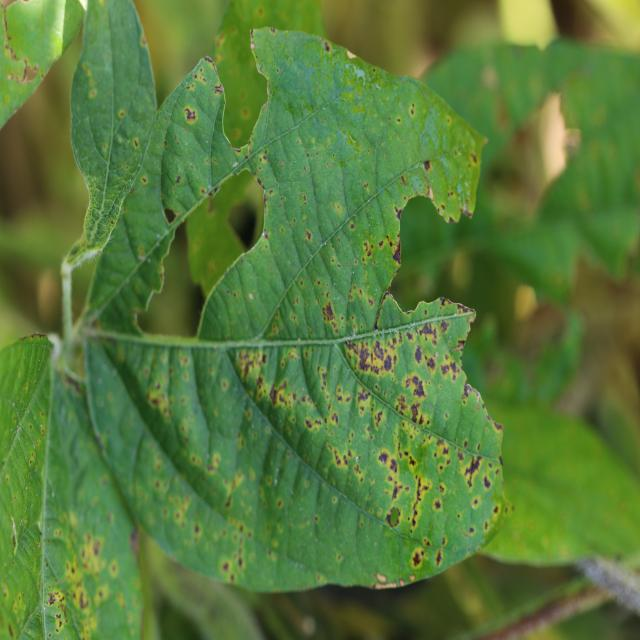Bacterial_Blight: (329, 381, 383, 440), (1, 7, 41, 84), (344, 327, 402, 380), (268, 366, 312, 426), (404, 318, 445, 376), (77, 529, 109, 579), (330, 446, 367, 485), (409, 473, 432, 526), (375, 289, 398, 327), (147, 378, 169, 415), (45, 589, 68, 623), (411, 443, 431, 472), (464, 454, 483, 481), (407, 376, 430, 395), (441, 359, 460, 379), (19, 331, 48, 343), (345, 131, 363, 150), (322, 300, 336, 324), (385, 508, 400, 527), (183, 105, 198, 123), (391, 242, 402, 265), (391, 482, 404, 501), (130, 526, 139, 552), (411, 549, 423, 567), (269, 384, 279, 405), (410, 403, 421, 422), (378, 451, 388, 466), (463, 383, 473, 398), (204, 55, 216, 67), (462, 205, 473, 218), (394, 206, 404, 219), (435, 550, 443, 566), (213, 84, 224, 95), (423, 159, 432, 171), (88, 88, 97, 99), (241, 108, 250, 119), (304, 230, 312, 242), (470, 152, 478, 164), (210, 186, 219, 196), (12, 533, 17, 551), (118, 109, 126, 119), (323, 41, 330, 52), (448, 215, 456, 224), (138, 254, 146, 262), (141, 176, 148, 185), (133, 138, 139, 148), (194, 524, 200, 534), (234, 146, 242, 153), (175, 175, 181, 184), (262, 231, 268, 240), (248, 292, 254, 300), (250, 42, 256, 50)
Soybean: (85, 28, 504, 590)
